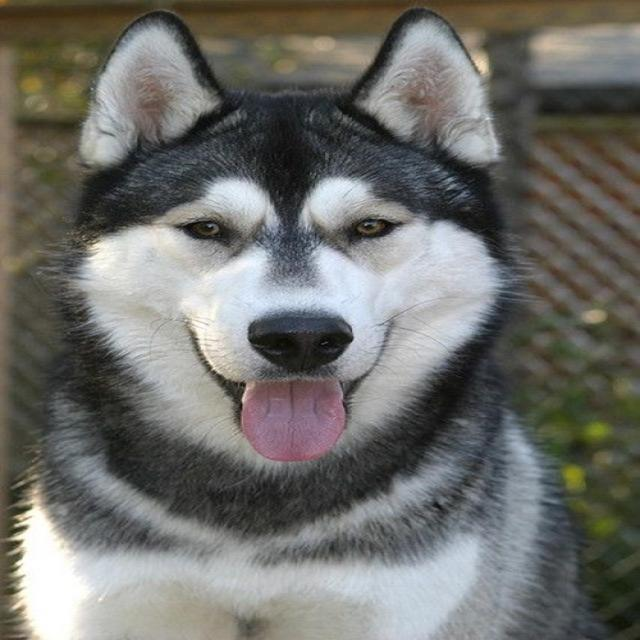Siberian Husky: (45, 16, 524, 585)
